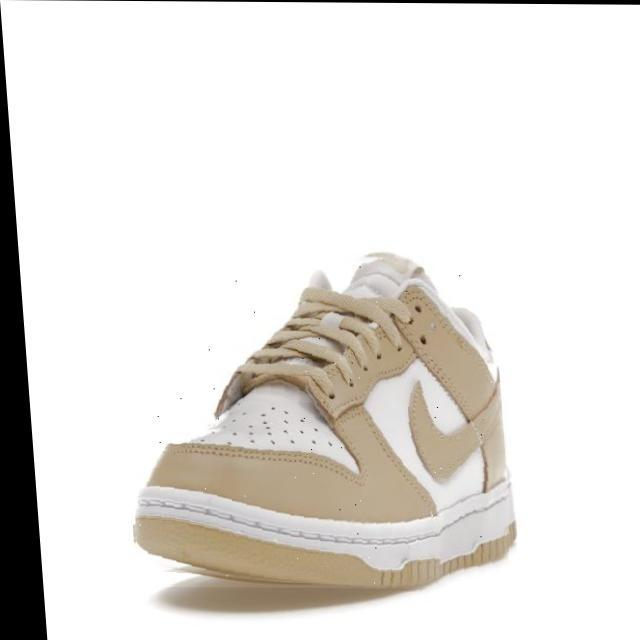J1_InsoleChar: (3, 4, 635, 637)
J1_ShoeLogo: (132, 250, 518, 591)
J1_StitchPattern: (212, 277, 496, 496), (132, 482, 518, 588), (214, 283, 416, 419), (388, 283, 496, 493), (250, 301, 390, 388), (368, 521, 517, 590), (165, 438, 360, 482)
